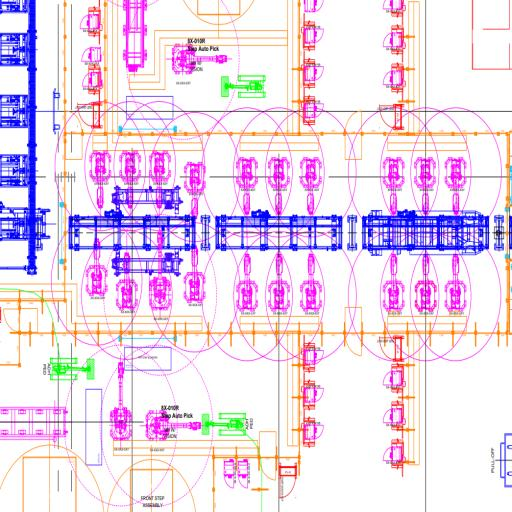robot: (108, 356, 136, 443), (148, 228, 174, 314), (144, 407, 202, 444), (264, 249, 294, 320), (442, 252, 469, 316), (234, 249, 260, 315), (442, 155, 470, 215), (411, 153, 438, 215), (381, 252, 408, 314), (83, 235, 109, 299), (298, 250, 324, 314), (414, 252, 439, 317), (267, 154, 293, 216), (147, 148, 172, 212), (298, 155, 324, 215), (116, 251, 140, 315), (182, 160, 207, 221), (381, 155, 405, 215), (183, 244, 206, 306), (89, 148, 111, 210), (236, 155, 258, 214), (120, 149, 141, 210)
